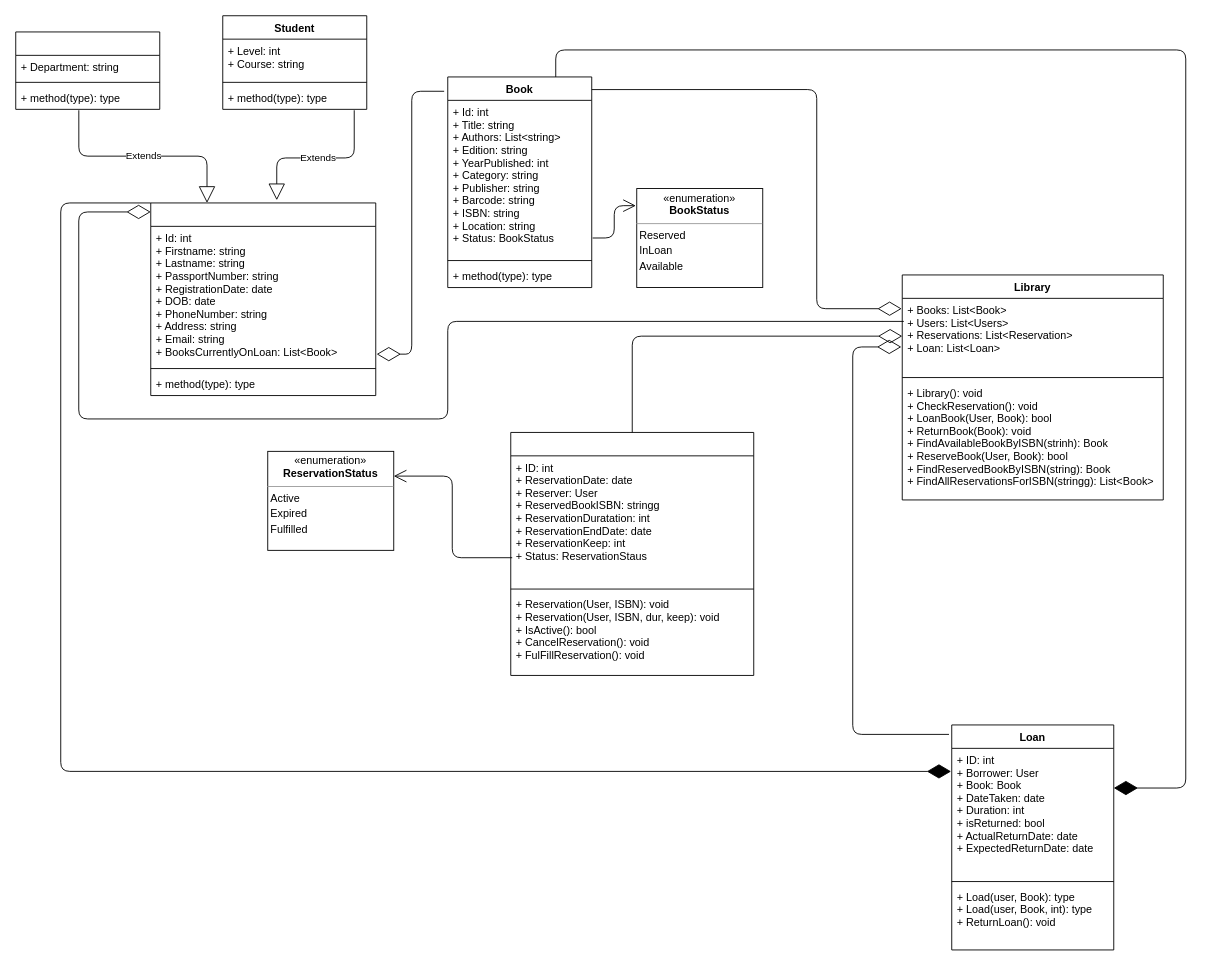
Image size: 1225x968. Some labels were removed from this diagram. The box of each missing label's shape, as (x1, y1, x2, y2) in pixels:
Rerservation: (510, 432, 754, 675)
Staff: (15, 31, 160, 109)
User: (150, 202, 376, 396)
